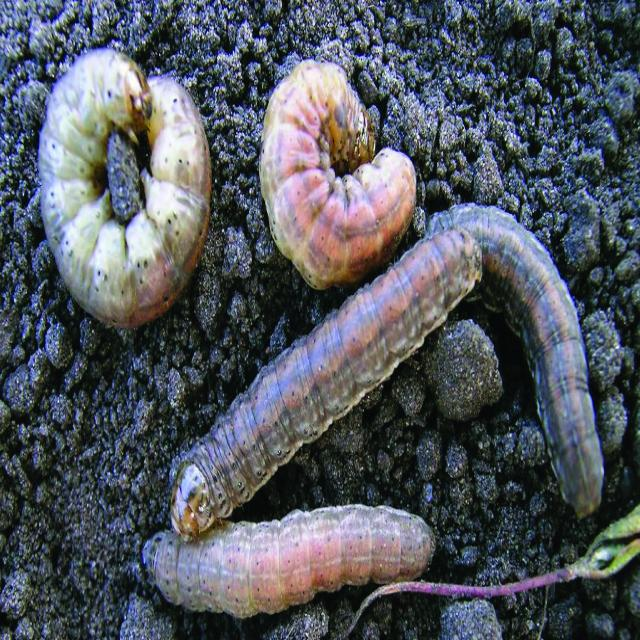worm: (164, 215, 485, 550), (429, 187, 616, 527), (38, 47, 213, 330), (258, 58, 418, 291), (142, 502, 437, 620)
